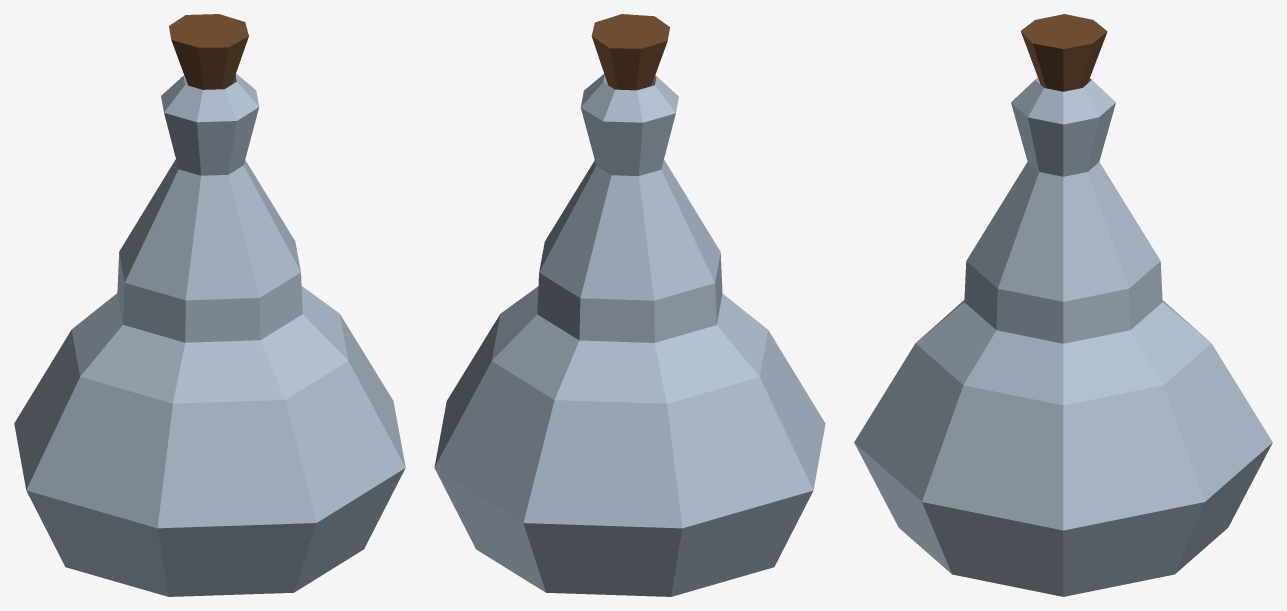
Rendered from potion.fbx.
3 views of the same model, side by side, from view 1: azimuth 30°, elevation 25°; view 2: azimuth 150°, elevation 25°; view 3: azimuth 270°, elevation 25° (orthographic).
Visible parts, largest first — view 1: Cube; view 2: Cube; view 3: Cube.
Boxes of the visible parts, x1,y1,x2,y2 form: Cube: (14, 14, 405, 596); Cube: (434, 14, 825, 596); Cube: (854, 14, 1272, 596).
Bounding box in the file's own units: 376 × 490 × 376.
